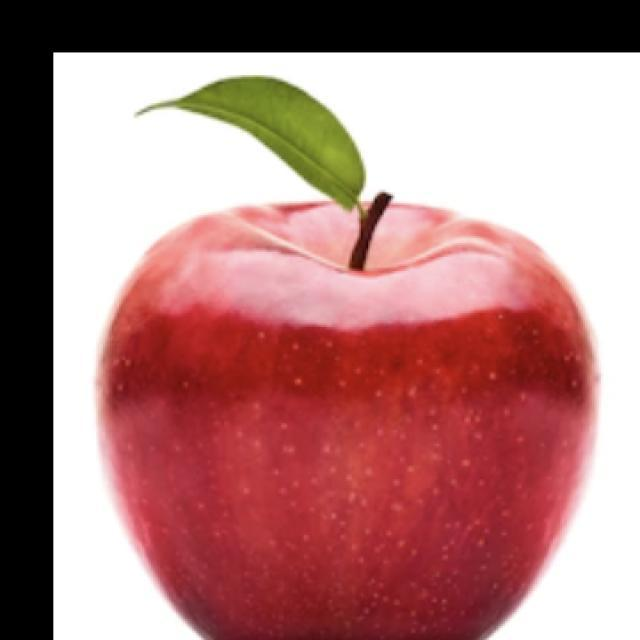Apple: (94, 191, 601, 639)
